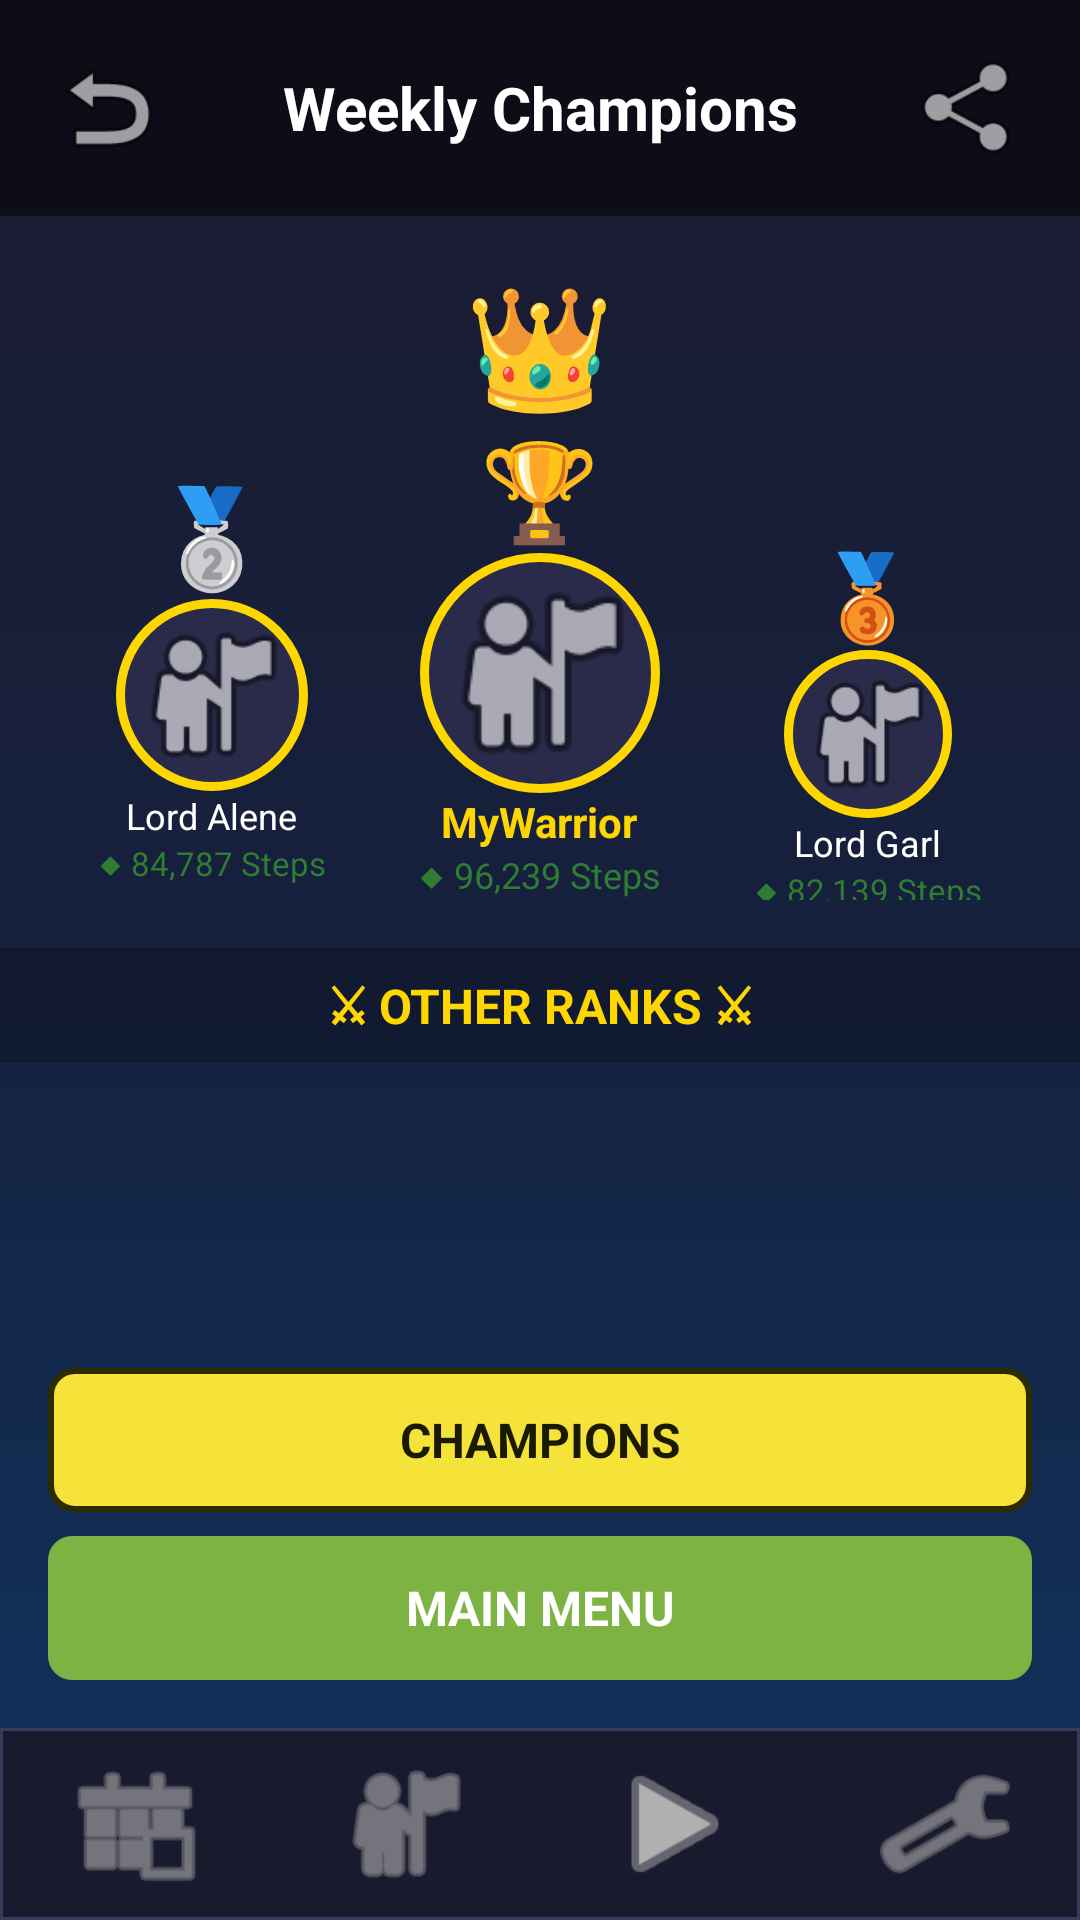

Named icons in this screenshot (1080×1920) and their centers, (x,y):
Character: (406,1824)
myplaces: (540,673), (212,695), (868,734)
revert: (109,108)
Settings: (945,1824)
share: (965,107)
